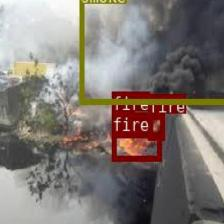fire: (111, 132, 160, 160), (147, 114, 163, 138), (111, 111, 133, 128)
smoke: (79, 0, 224, 103)
